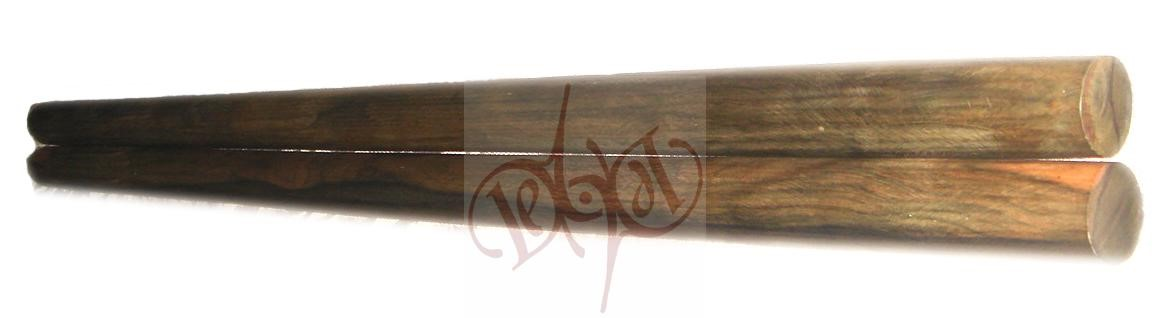baston_e: (46, 153, 1076, 253), (43, 66, 1091, 160)
baston_v: (1037, 41, 1161, 158), (1034, 151, 1151, 271), (22, 89, 78, 150), (19, 145, 67, 186)
